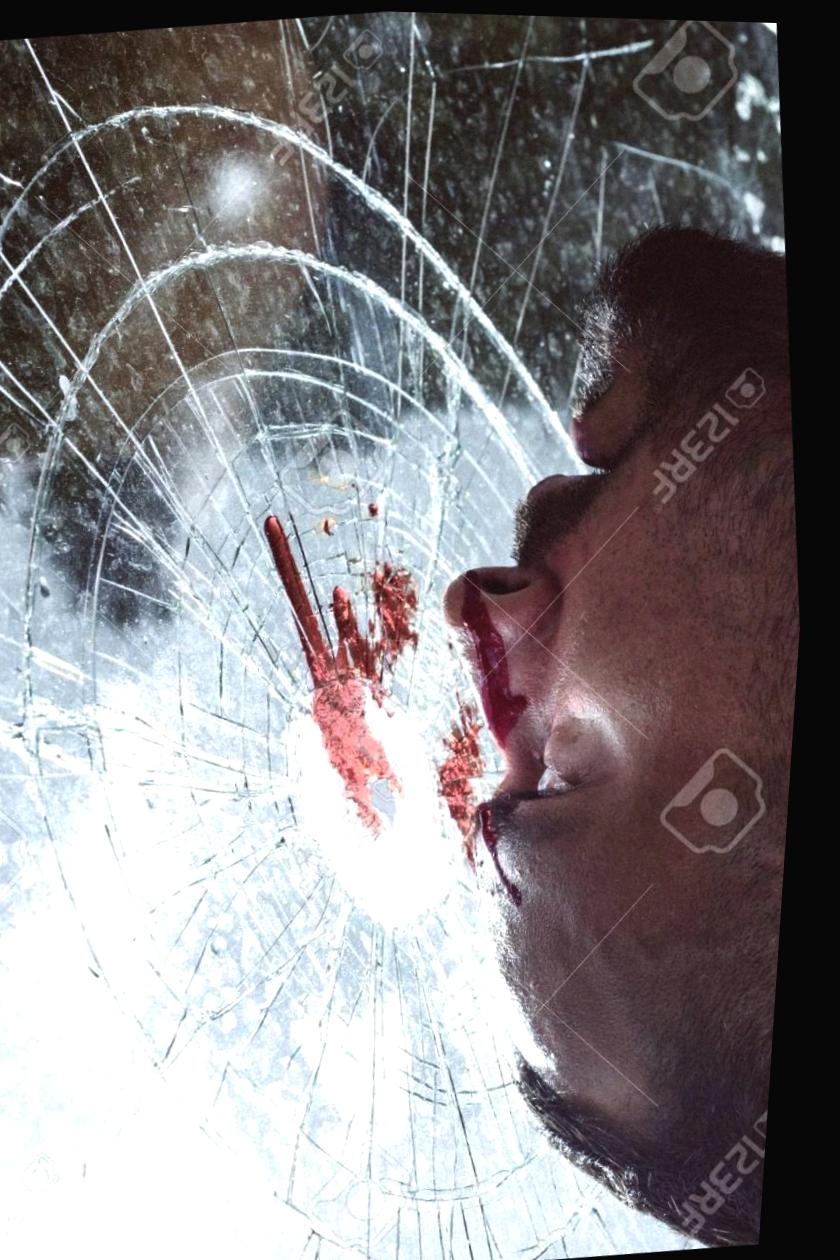Fire: (269, 514, 427, 836), (469, 569, 537, 745), (449, 724, 494, 871)
